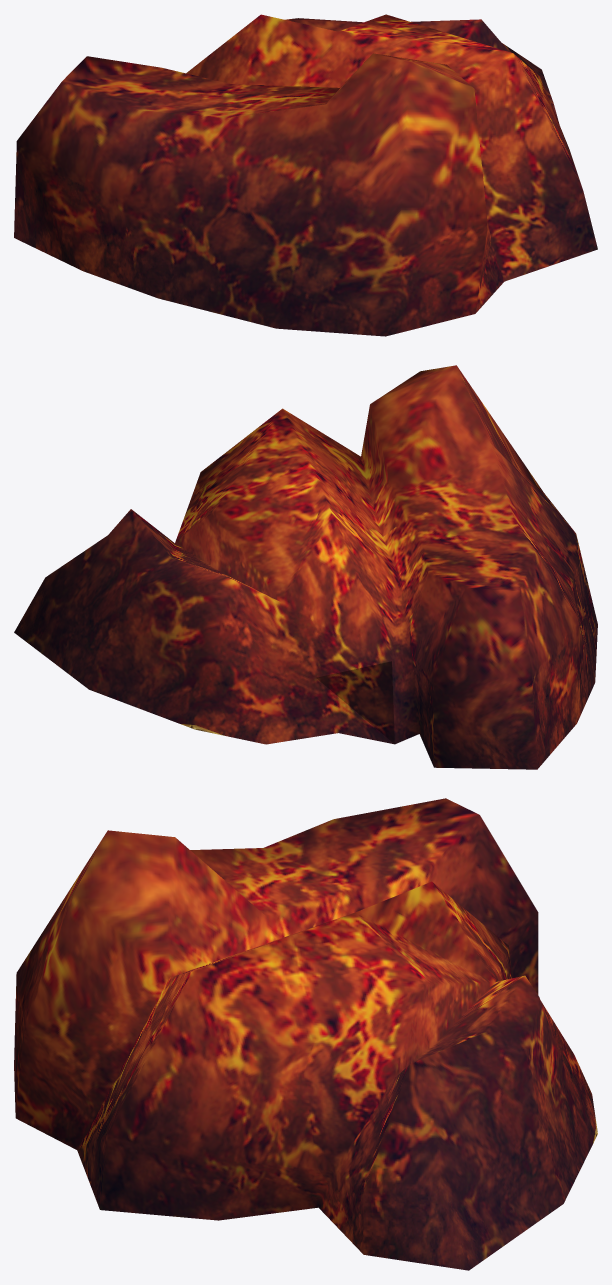
The model's file is Scene_yuanshitou_004.FBX.
3 views of the same model, one above another, from view 1: azimuth 30°, elevation 25°; view 2: azimuth 150°, elevation 25°; view 3: azimuth 270°, elevation 25° (orthographic). The views are drawn at different scales.
Parts seen in each view (by area): view 1: Scene_yuanshitou_004; view 2: Scene_yuanshitou_004; view 3: Scene_yuanshitou_004.
Boxes of the visible parts, box(x1,y1,x2,y2) form: Scene_yuanshitou_004: box(14, 14, 597, 336); Scene_yuanshitou_004: box(14, 365, 597, 769); Scene_yuanshitou_004: box(14, 798, 597, 1270).
Size of the model in its own units: 34 by 14.24 by 27.3.
